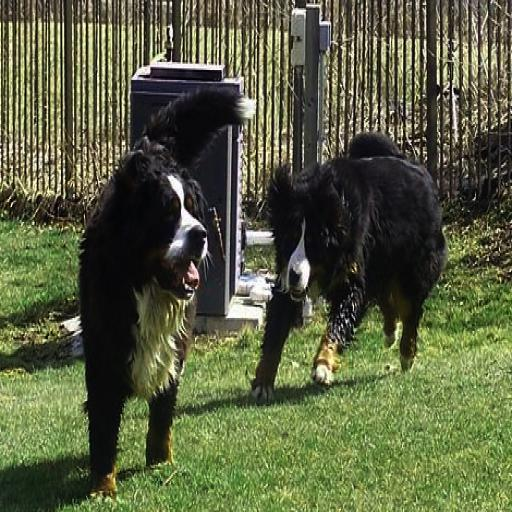dog_face: (104, 152, 225, 314), (274, 164, 353, 312)
